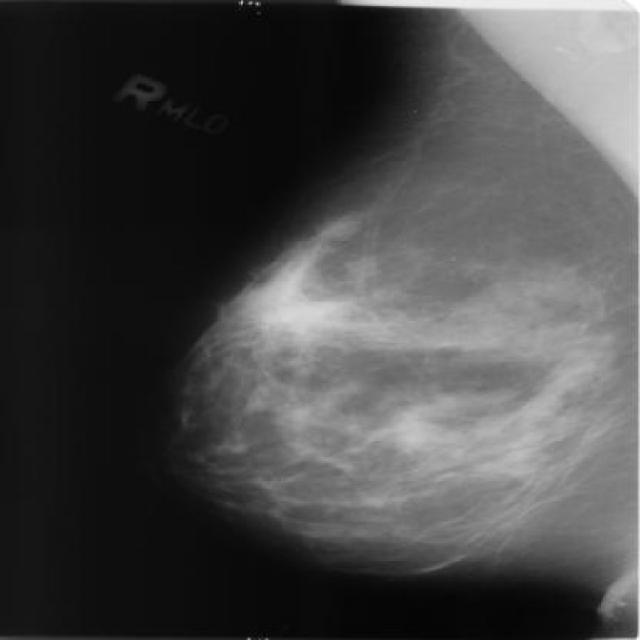tumor: (215, 229, 633, 504)
